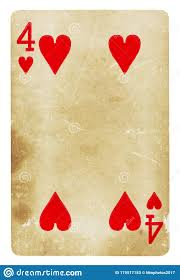four of hearts: (10, 10, 170, 256)
